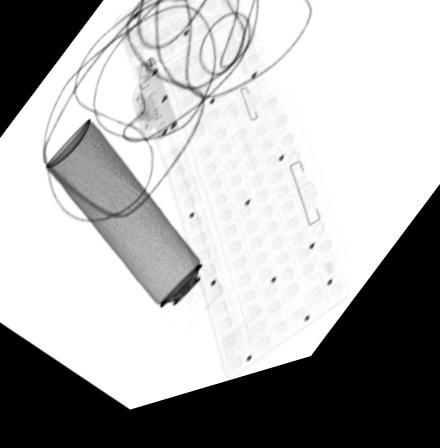Sprayer: (41, 119, 224, 344)
